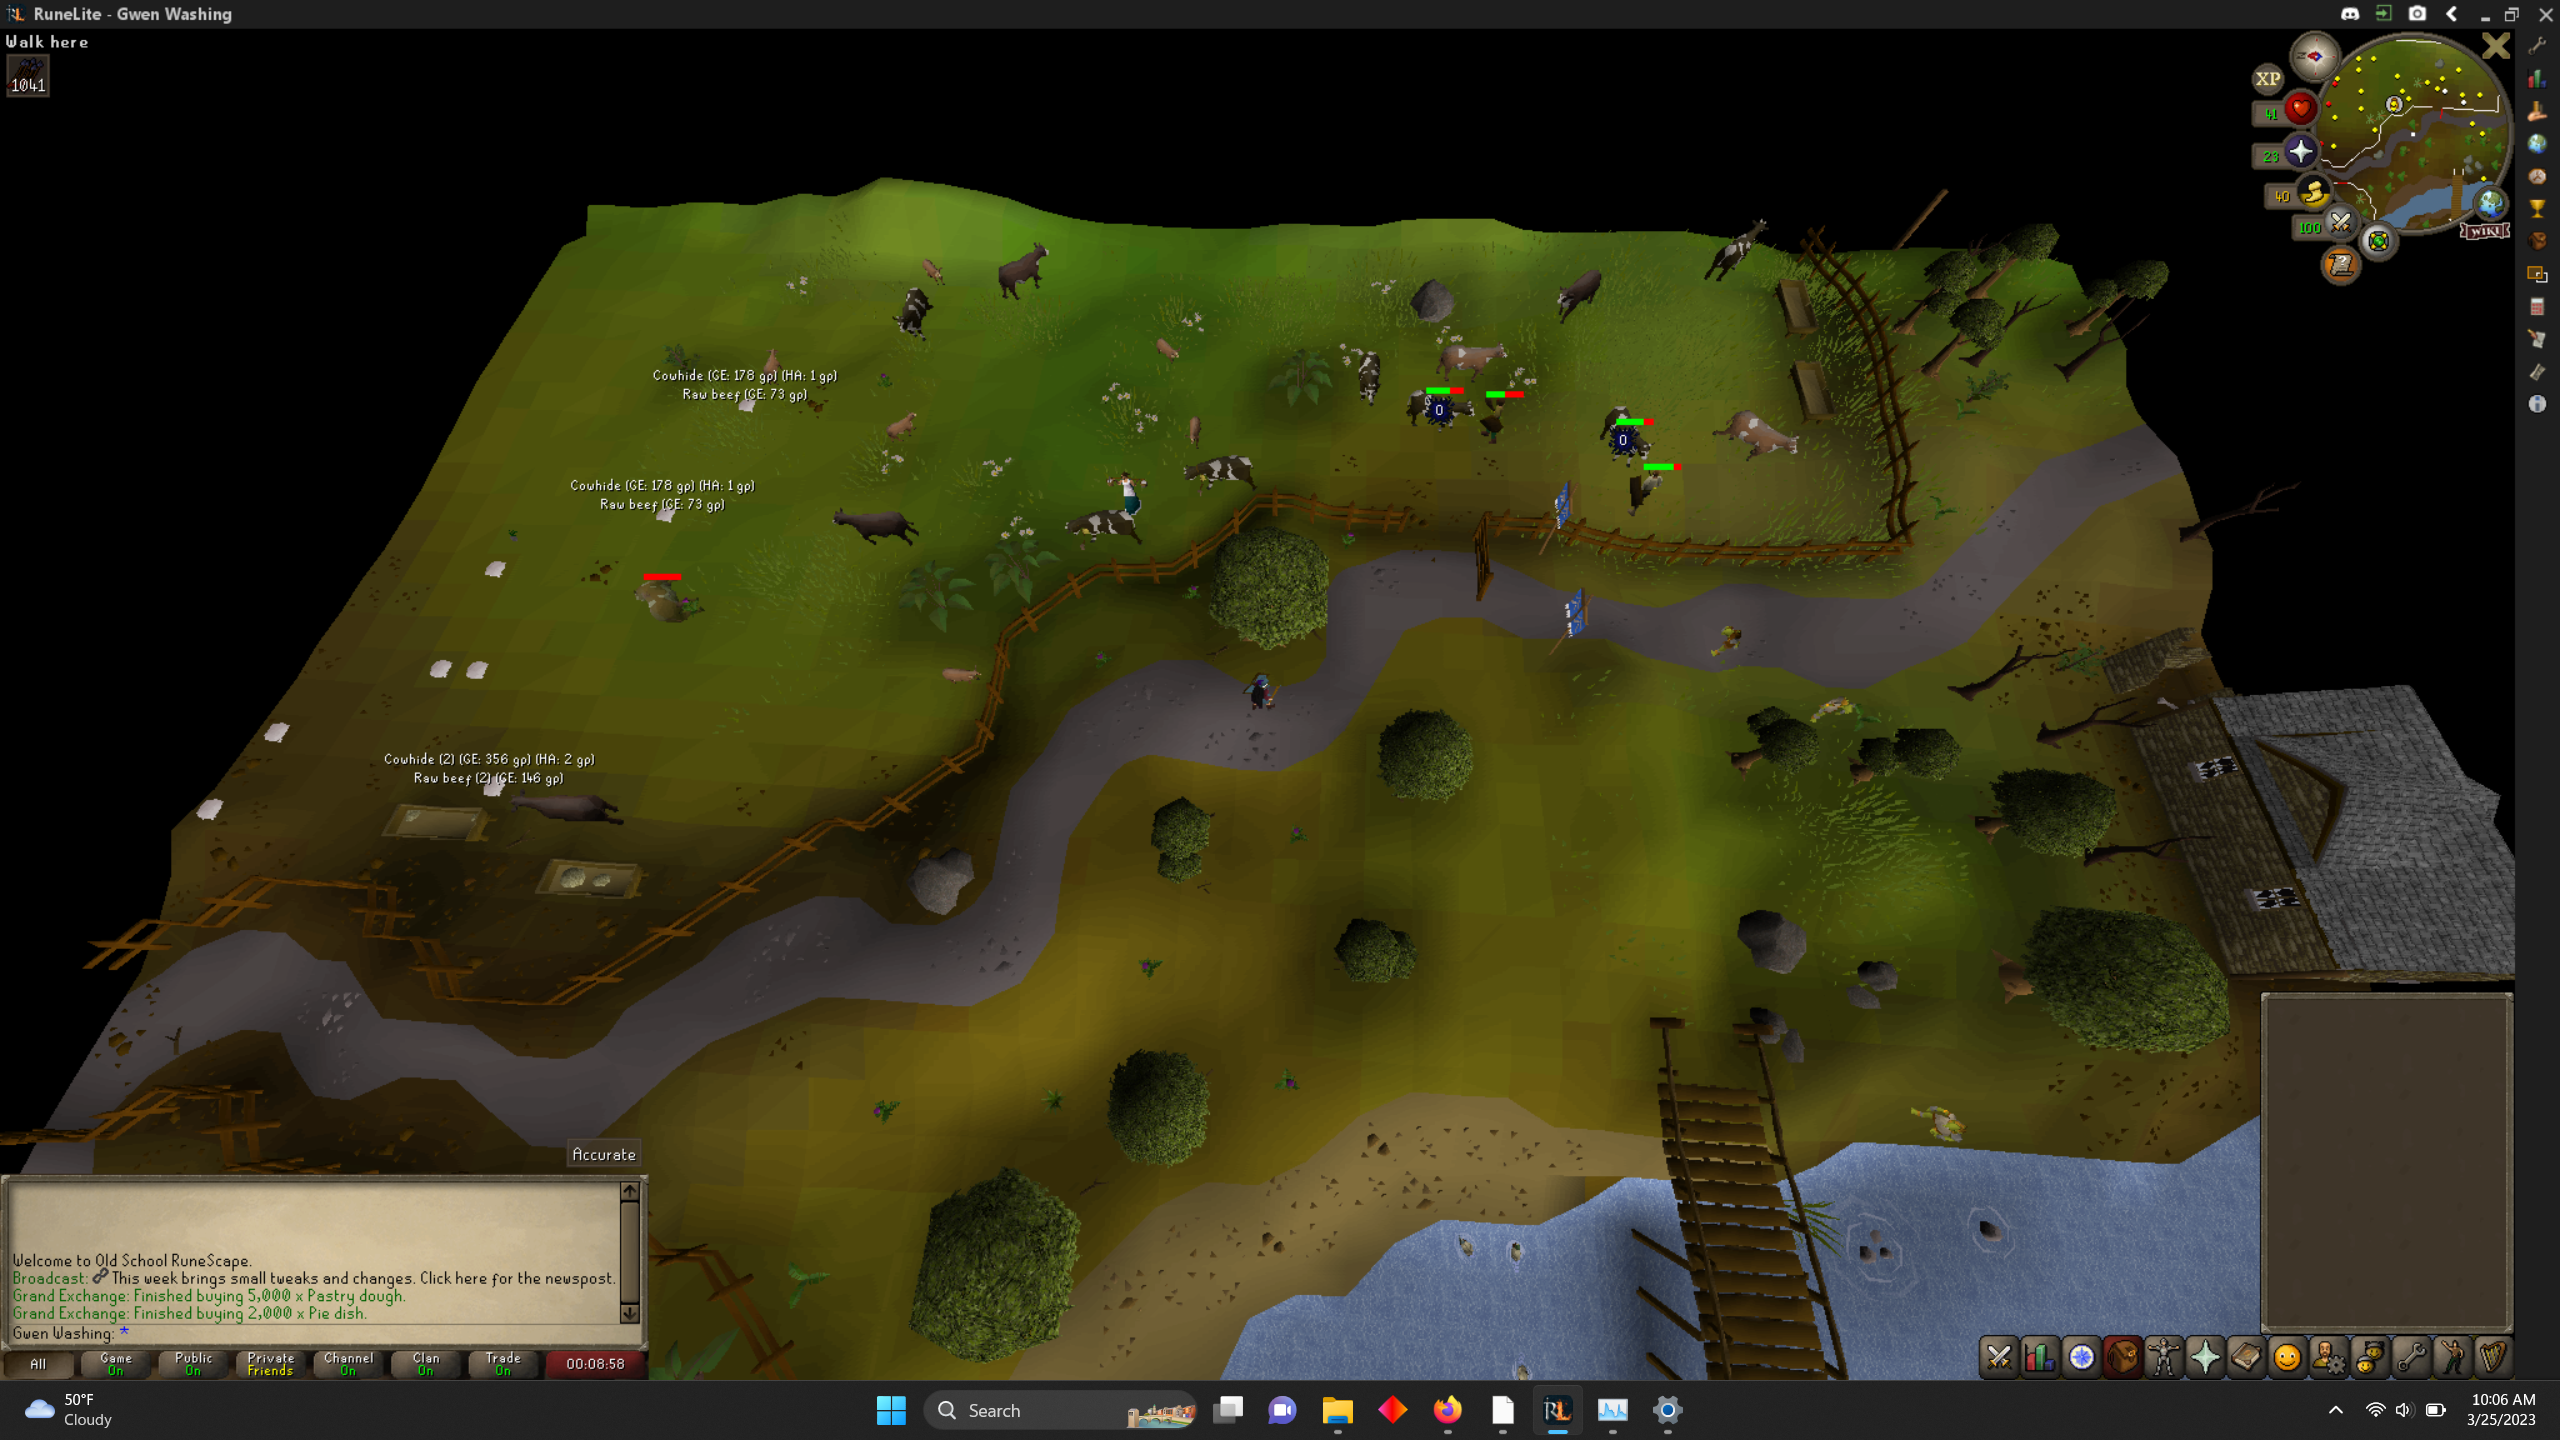cow: (508, 788, 635, 840), (1711, 404, 1802, 469), (1704, 211, 1774, 290), (626, 571, 712, 635), (826, 499, 925, 550), (992, 237, 1053, 304), (1598, 401, 1660, 468), (1180, 454, 1262, 499), (1431, 339, 1514, 383), (1405, 385, 1475, 434), (1053, 513, 1146, 550), (1553, 265, 1609, 318), (1347, 341, 1385, 404), (897, 285, 932, 348), (884, 404, 925, 441), (1180, 411, 1211, 454), (1152, 338, 1183, 373), (761, 343, 784, 385), (923, 255, 946, 280)
